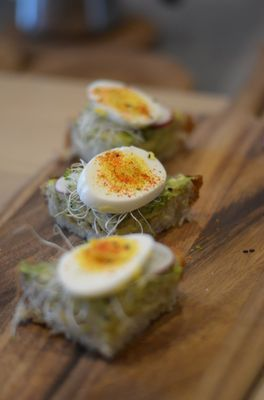pasta: (76, 145, 167, 215)
